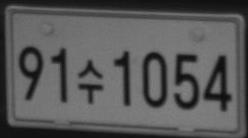0: (141, 50, 168, 108)
1: (109, 50, 137, 106), (49, 47, 75, 102)
4: (202, 54, 232, 111)
5: (172, 52, 199, 110)
9: (18, 45, 43, 101)
수: (77, 58, 103, 104)
